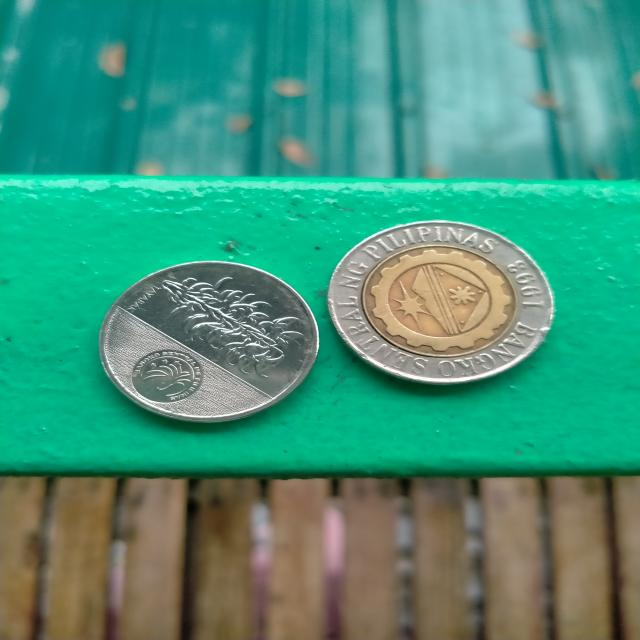10_Old_Back: (331, 222, 557, 386)
5_New_Back: (156, 273, 312, 380)
